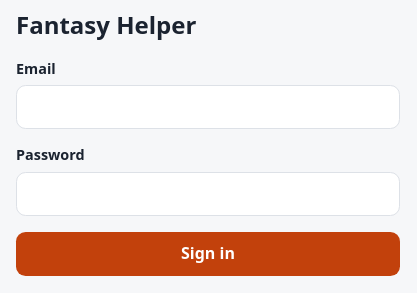
Test: sign-in with a password › is disabled while a sign-in is in flight, so a double tap sends one request
In the field labelled "Email": (208, 107) [16,85,400,129], type "me@example.com"
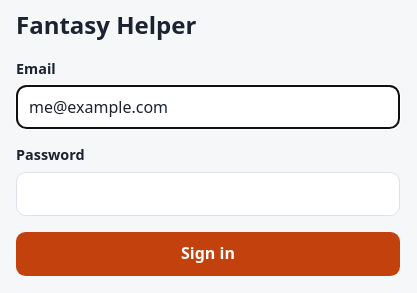
In the password field labelled "Password": (208, 194) [16,172,400,216], type "pw"
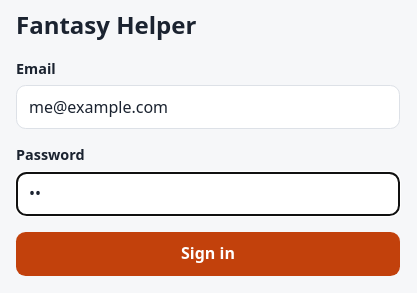
Click the button "Sign in": (208, 254) [16,232,400,276]
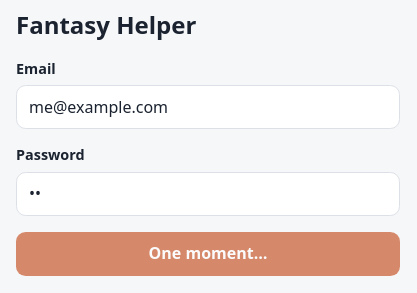
Result: the button "One moment…" is disabled at [16,232,400,276]
